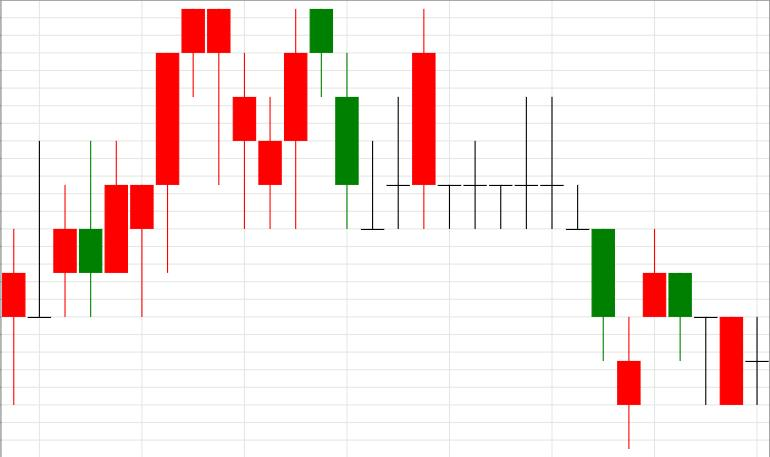hanging_man_fall: (104, 8, 231, 316)
